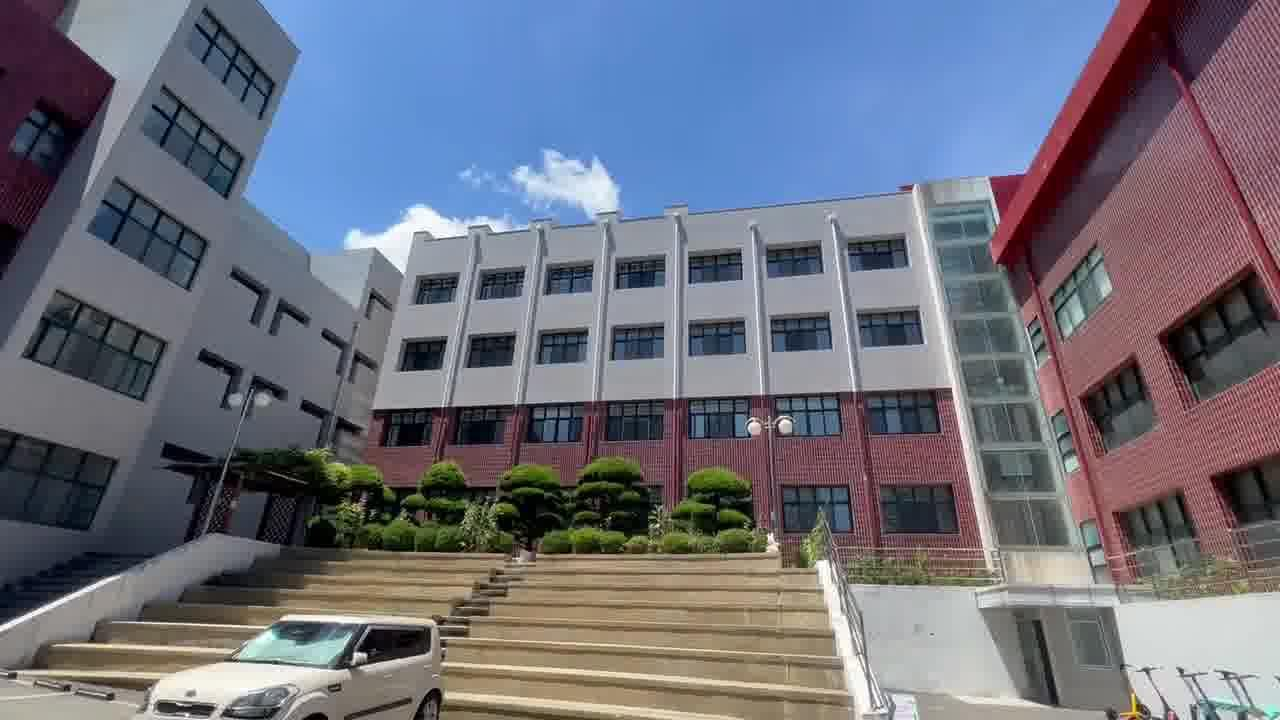building: (21, 0, 1280, 462)
